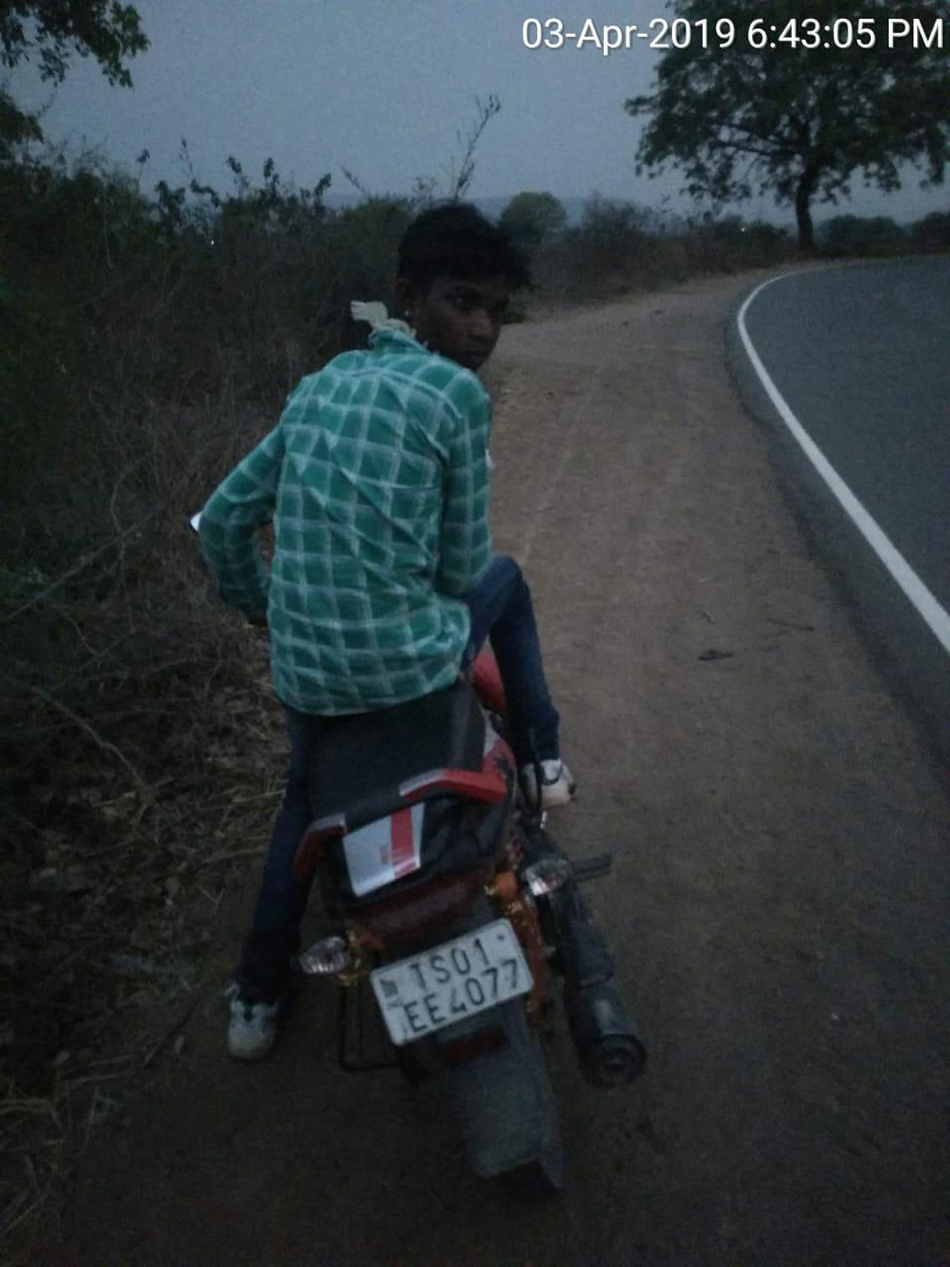plate: (357, 907, 545, 1052)
